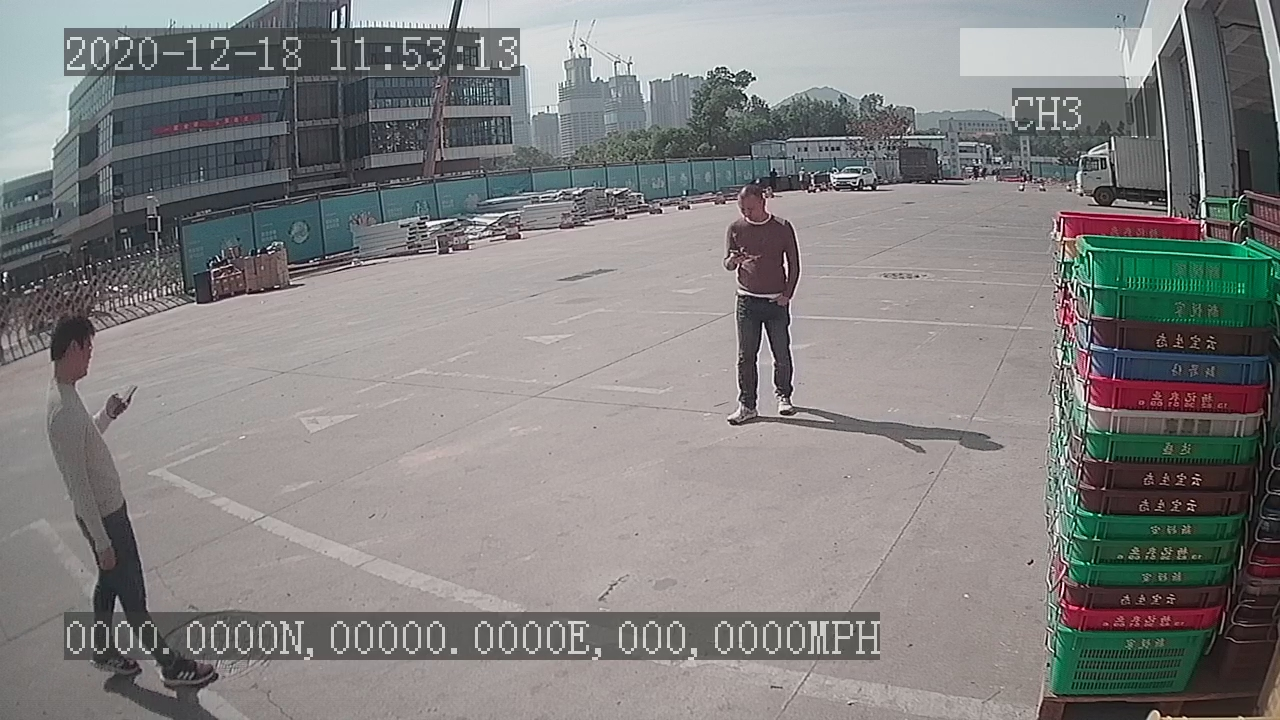person: (709, 177, 809, 435)
